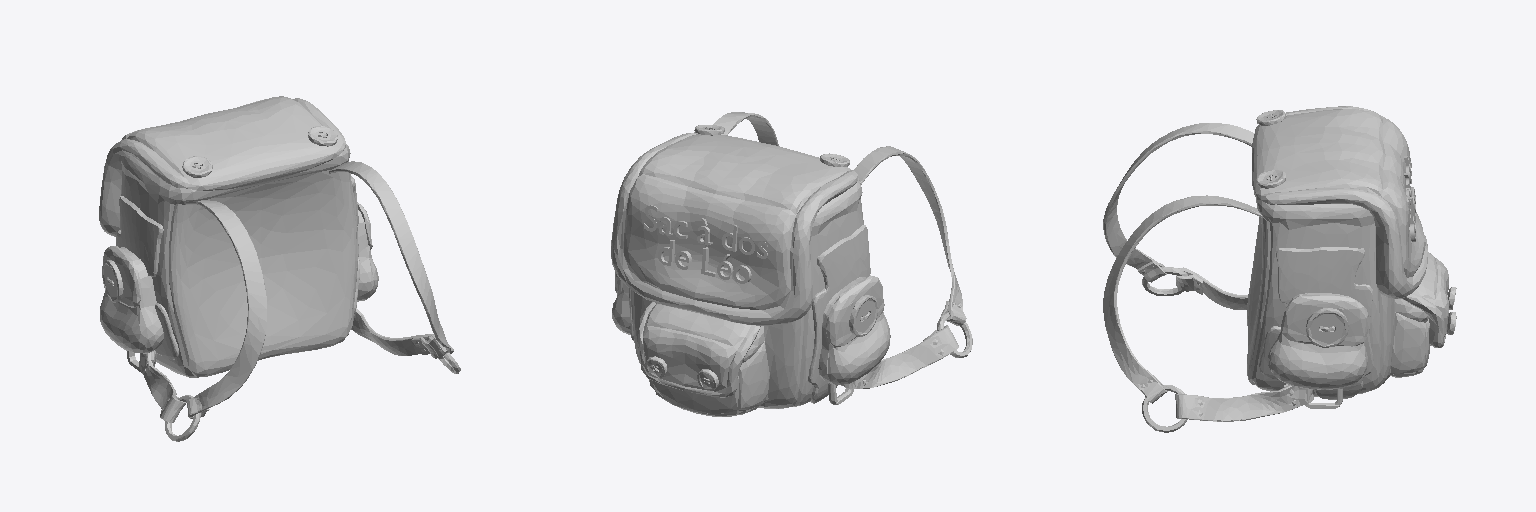
File: backpack_leo.obj
3 renders of one model, left to right at view 1: azimuth 30°, elevation 25°; view 2: azimuth 150°, elevation 25°; view 3: azimuth 270°, elevation 25°, orthographic.
Visible parts, largest first — view 1: Group39120.052; view 2: Group39120.052; view 3: Group39120.052.
Part boxes in pixels (x1,y1,x2,y2): Group39120.052: (99,96,460,441); Group39120.052: (611,112,972,416); Group39120.052: (1103,106,1456,432).
Bounding box in the file's own units: 3.05 × 2.31 × 3.25.